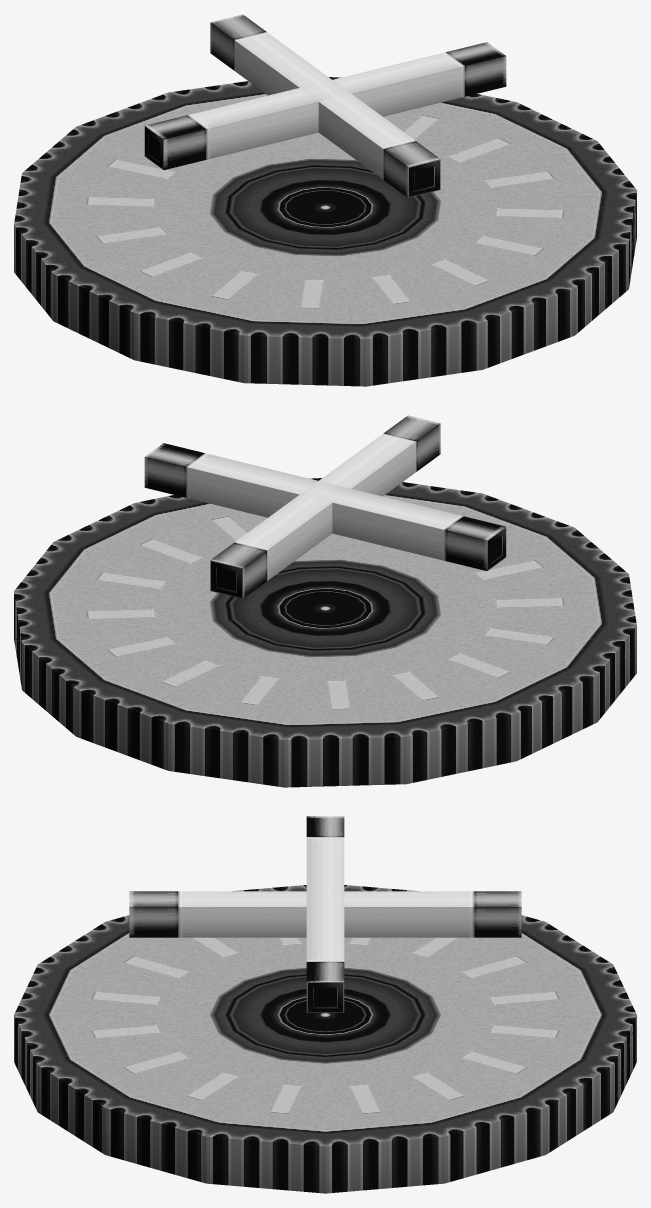
Rendered from clock_course-gear_black.glb.
3 views of the same model, one above another, from view 1: azimuth 30°, elevation 25°; view 2: azimuth 150°, elevation 25°; view 3: azimuth 270°, elevation 25° (orthographic).
Visible parts, largest first — view 1: gear_black; view 2: gear_black; view 3: gear_black.
Part boxes in pixels (x1,y1,x2,y2): gear_black: (14, 14, 636, 386); gear_black: (14, 415, 636, 787); gear_black: (14, 816, 636, 1193).
Size of the model in its own units: 37.5 by 10.81 by 37.5.
Materials: 1 (1 with a texture image).
